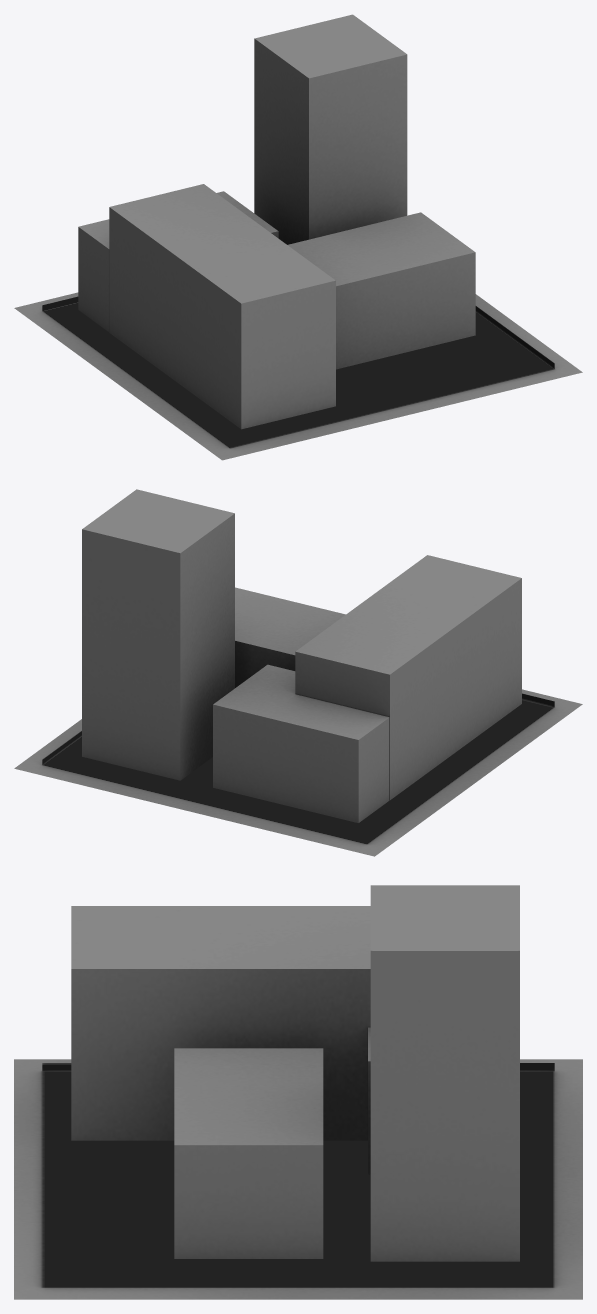
Rendered from BlockTest.fbx.
3 renders of one model, top to bottom at view 1: azimuth 30°, elevation 25°; view 2: azimuth 150°, elevation 25°; view 3: azimuth 270°, elevation 25°, orthographic. The views are drawn at different scales.
Visible parts, largest first — view 1: Plane; view 2: Plane; view 3: Plane.
Boxes of the visible parts, x1,y1,x2,y2 form: Plane: (14,14,582,460); Plane: (14,489,582,856); Plane: (14,885,582,1299).
Size of the model in its own units: 200 by 126 by 200.
Materials: 1 (1 with a texture image).
